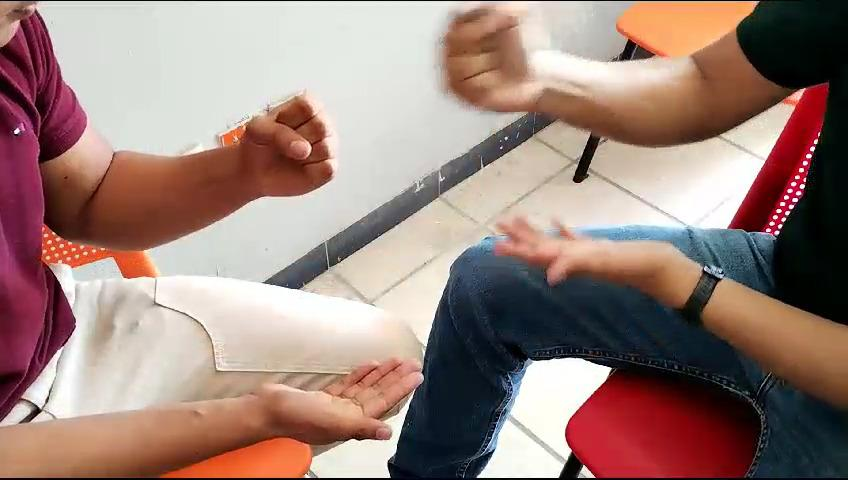Stone: (431, 0, 552, 124), (235, 92, 346, 211)
